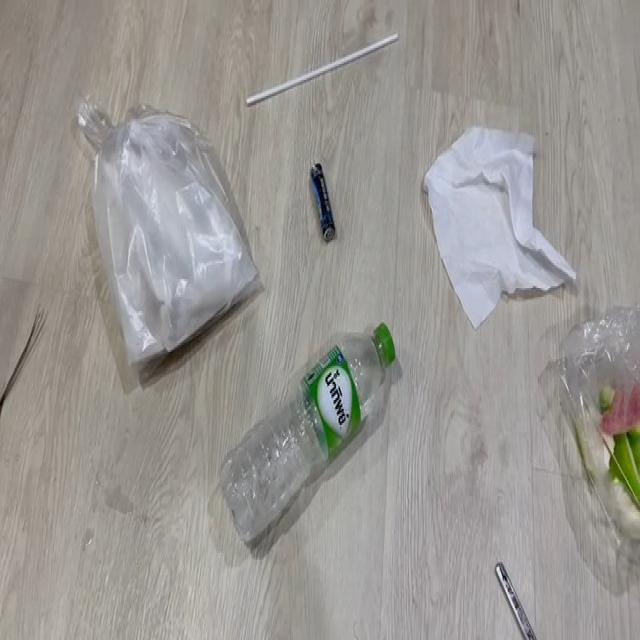Anorganik: (86, 96, 255, 353), (220, 332, 418, 532), (434, 103, 572, 327), (251, 33, 412, 98), (488, 535, 552, 640)
B3: (0, 296, 56, 639), (576, 319, 640, 548), (310, 149, 344, 253)
